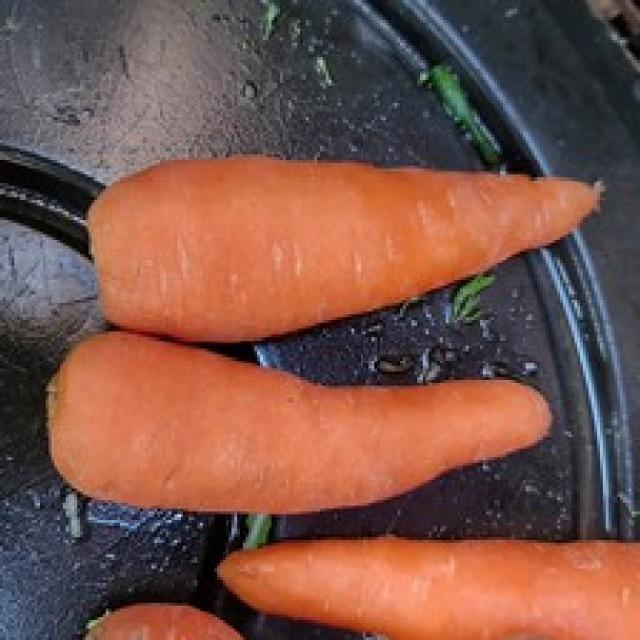carrot: (87, 151, 608, 338), (49, 344, 553, 516), (222, 536, 640, 640)
